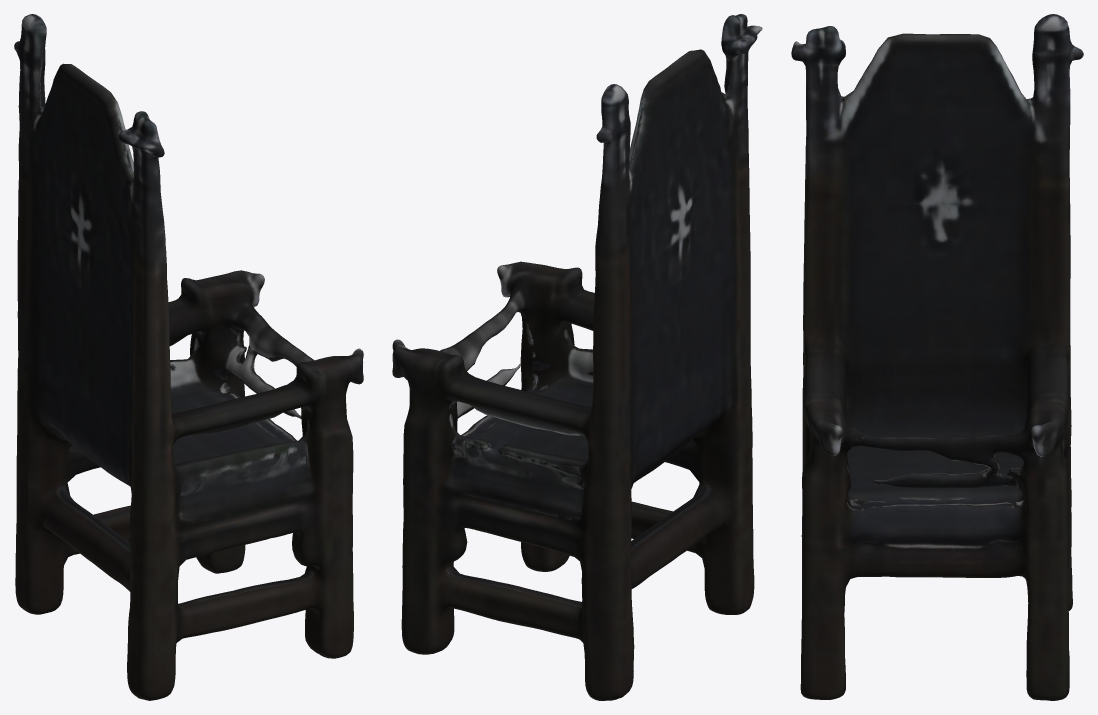
The model's file is chair.fbx.
3 views of the same model, side by side, from view 1: azimuth 30°, elevation 25°; view 2: azimuth 150°, elevation 25°; view 3: azimuth 270°, elevation 25° (orthographic). The views are drawn at different scales.
Parts seen in each view (by area): view 1: mesh; view 2: mesh; view 3: mesh.
Part boxes in pixels (left/top/right/bottom): mesh: left=14, top=14, right=363, bottom=700; mesh: left=392, top=14, right=762, bottom=700; mesh: left=791, top=14, right=1083, bottom=700.
Bounding box in the file's own units: 42.92 × 99.69 × 44.58.
